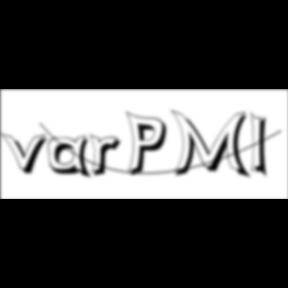I: (251, 110, 275, 182)
M: (170, 108, 254, 181)
P: (127, 110, 174, 180)
a: (49, 135, 97, 182)
r: (90, 134, 128, 180)
v: (0, 131, 54, 177)
